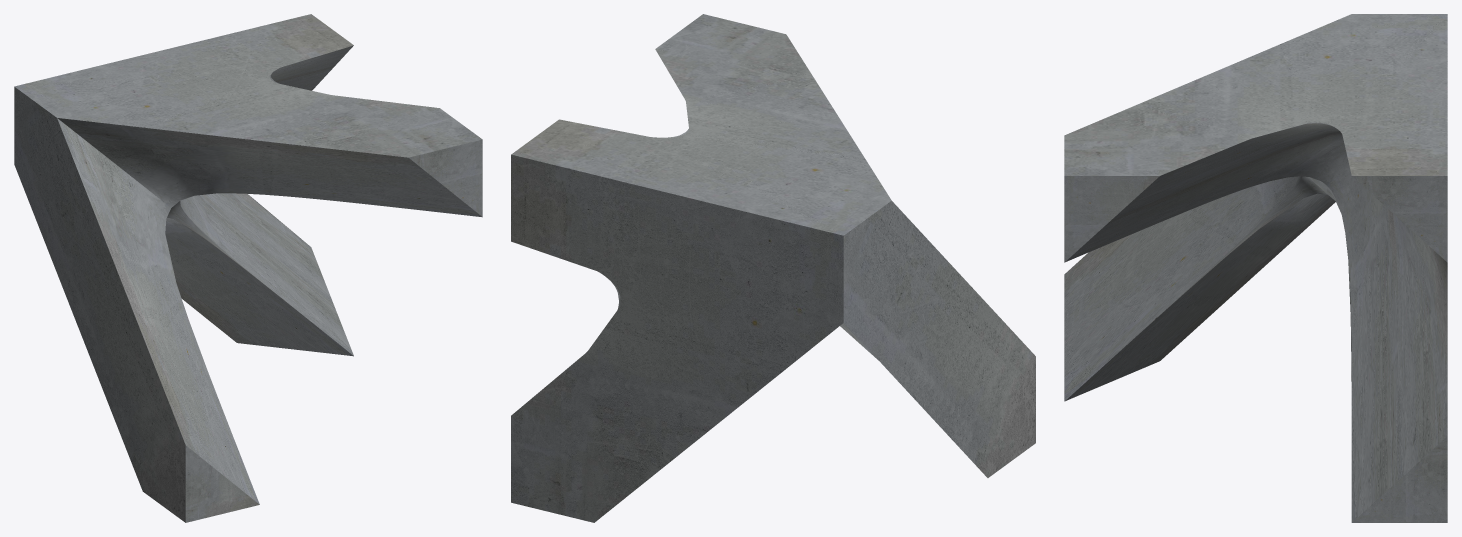
File: module_R4.fbx
3 renders of one model, left to right at view 1: azimuth 30°, elevation 25°; view 2: azimuth 150°, elevation 25°; view 3: azimuth 270°, elevation 25°, orthographic. The views are drawn at different scales.
Parts seen in each view (by area): view 1: modules; view 2: modules; view 3: modules.
Boxes of the visible parts, x1,y1,x2,y2 form: modules: [14, 14, 482, 522]; modules: [511, 14, 1035, 522]; modules: [1064, 14, 1447, 522].
Bounding box in the file's own units: 1000 × 1000 × 1000.
1 material, 1 textured.
